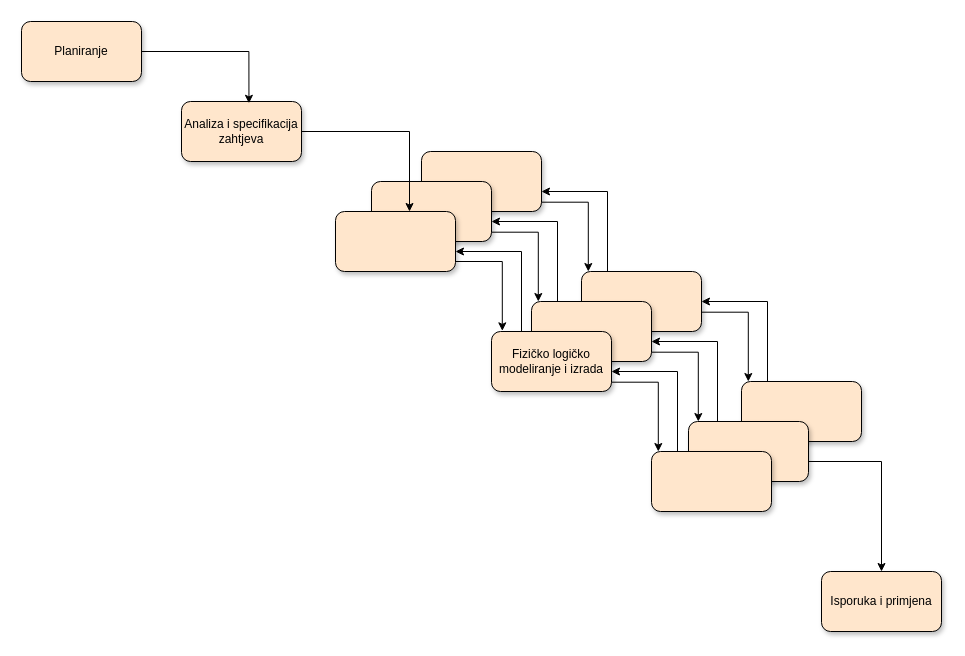
Image size: 965x656. Some labels were removed from this diagram. Here are the shapes that lost their labels. From the top down, the centre of each, then its label:
At point (396, 242): "Konceptualno i logičko modeliranje".
At point (712, 482): "Testiranje".
